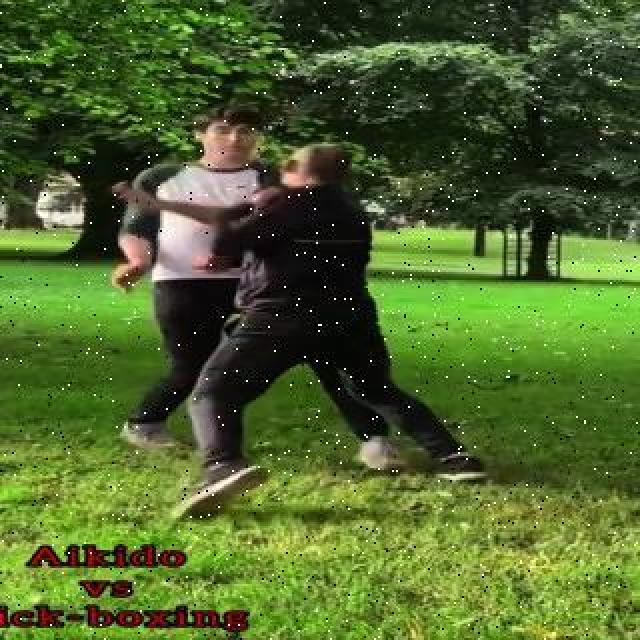fight: (66, 75, 522, 515)
